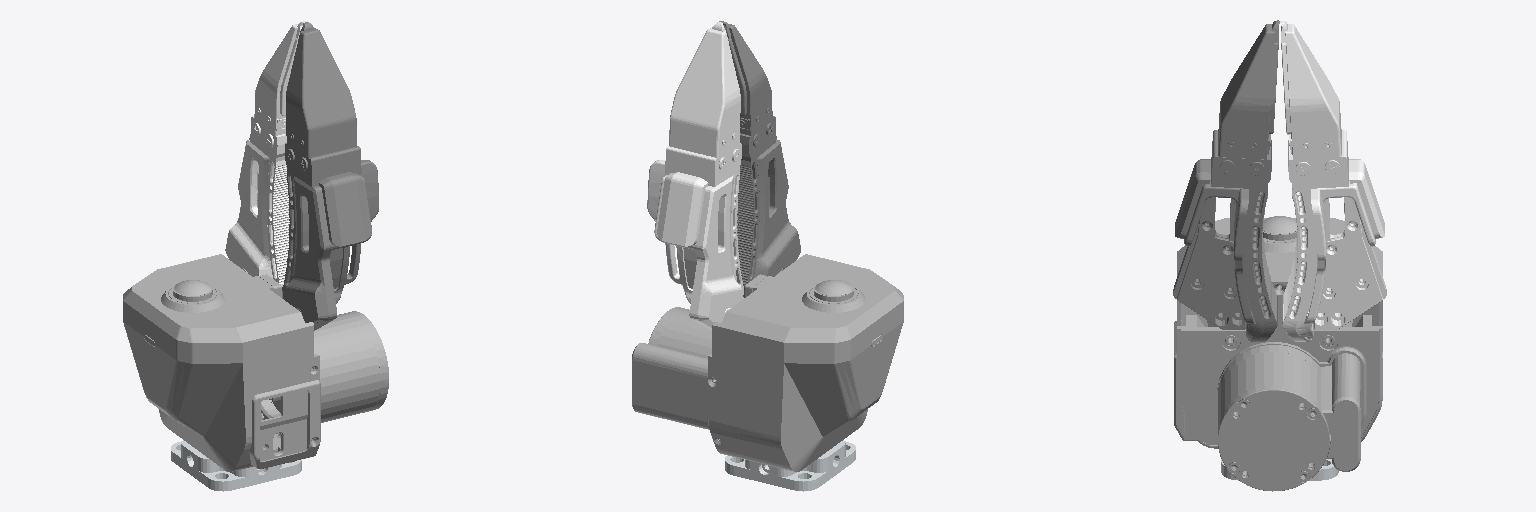
URDF robot description (taccap_g1_slave_with_mount):
<robot name="taccap_g1_slave_with_mount">
  <!-- Generated by scripts/generate_models.py; edit Xacro/config sources instead. -->
  <material name="taccap_base_mat">
    <color rgba="0.75294 0.75294 0.75294 1" />
  </material>
  <material name="taccap_left_mat">
    <color rgba="1 1 1 1" />
  </material>
  <material name="taccap_right_mat">
    <color rgba="0.60392 0.60392 0.60392 1" />
  </material>
  <material name="taccap_mount_mat">
    <color rgba="0.89804 0.91765 0.92941 1" />
  </material>
  <link name="taccap_mount_link">
    <visual name="asm_visual">
      <origin rpy="0 -1.5707963267948966 0" xyz="0 0 0" />
      <geometry>
        <mesh filename="../meshes/Asm_link.STL" />
      </geometry>
      <material name="taccap_mount_mat" />
    </visual>
    <collision name="asm_collision">
      <origin rpy="0 -1.5707963267948966 0" xyz="0 0 0" />
      <geometry>
        <mesh filename="../meshes/Asm_link.STL" />
      </geometry>
    </collision>
  </link>
  <joint name="taccap_mount_joint" type="fixed">
    <parent link="taccap_mount_link" />
    <child link="taccap_base_link" />
    <origin rpy="0 0 0" xyz="0 0 0.012" />
  </joint>
  <link name="taccap_base_link">
    <inertial>
      <origin rpy="0 0 0" xyz="0.010155 -0.0007499 0.0361" />
      <mass value="0.415" />
      <inertia ixx="0.000573" ixy="0" ixz="0" iyy="0.000748" iyz="0" izz="0.000680" />
    </inertial>
    <visual name="base_visual">
      <origin rpy="0 -1.5707963267948966 0" xyz="0.01975 -0.0060769 0.034023" />
      <geometry>
        <mesh filename="../meshes/base_link.STL" />
      </geometry>
      <material name="taccap_base_mat" />
    </visual>
    <collision name="base_collision">
      <origin rpy="0 -1.5707963267948966 0" xyz="0.01975 -0.0060769 0.034023" />
      <geometry>
        <mesh filename="../meshes/base_link.STL" />
      </geometry>
    </collision>
  </link>
  <link name="taccap_left_finger_link">
    <inertial>
      <origin rpy="0 0 0" xyz="0.020693 -0.00669 0.074921" />
      <mass value="0.36678" />
      <inertia ixx="0.00015235" ixy="2.9254e-07" ixz="-2.4362e-06" iyy="0.00015466" iyz="-6.6715e-06" izz="3.3606e-05" />
    </inertial>
    <visual name="left_finger_visual">
      <origin rpy="0 -1.5707963267948966 0" xyz="0 0 0" />
      <geometry>
        <mesh filename="../meshes/grip_left.STL" />
      </geometry>
      <material name="taccap_left_mat" />
    </visual>
    <collision name="left_finger_collision">
      <origin rpy="0 -1.5707963267948966 0" xyz="0 0 0" />
      <geometry>
        <mesh filename="../meshes/grip_left.STL" />
      </geometry>
    </collision>
  </link>
  <joint name="taccap_left_finger_joint" type="revolute">
    <parent link="taccap_base_link" />
    <child link="taccap_left_finger_link" />
    <origin rpy="0 0 0" xyz="0.0120336718 0.0199500106 0.0484999712" />
    <axis xyz="1 0 0" />
    <limit effort="1.1" lower="-0.5047492196767601" upper="0" velocity="1" />
    <dynamics damping="0.08" friction="0.01" />
    <mimic joint="taccap_right_finger_joint" multiplier="-1" offset="0" />
  </joint>
  <link name="taccap_right_finger_link">
    <inertial>
      <origin rpy="0 0 0" xyz="0.020629 0.0066814 0.07491" />
      <mass value="0.36678" />
      <inertia ixx="0.00015238" ixy="-2.9549e-07" ixz="-2.4418e-06" iyy="0.0001547" iyz="6.6629e-06" izz="3.3592e-05" />
    </inertial>
    <visual name="right_finger_visual">
      <origin rpy="0 -1.5707963267948966 0" xyz="0 0 0" />
      <geometry>
        <mesh filename="../meshes/grip_right.STL" />
      </geometry>
      <material name="taccap_right_mat" />
    </visual>
    <collision name="right_finger_collision">
      <origin rpy="0 -1.5707963267948966 0" xyz="0 0 0" />
      <geometry>
        <mesh filename="../meshes/grip_right.STL" />
      </geometry>
    </collision>
  </link>
  <joint name="taccap_right_finger_joint" type="revolute">
    <parent link="taccap_base_link" />
    <child link="taccap_right_finger_link" />
    <origin rpy="0 0 0" xyz="0.0120336718 -0.0199499894 0.0484999712" />
    <axis xyz="1 0 0" />
    <limit effort="1.1" lower="0" upper="0.5047492196767601" velocity="1" />
    <dynamics damping="0.08" friction="0.01" />
  </joint>
  <link name="taccap_eef_link" />
  <joint name="taccap_eef_joint" type="fixed">
    <parent link="taccap_base_link" />
    <child link="taccap_eef_link" />
    <origin rpy="0 0 0" xyz="0.036575 0 0.2009217" />
  </joint>
  <link name="taccap_camera_link" />
  <joint name="taccap_camera_joint" type="fixed">
    <parent link="taccap_base_link" />
    <child link="taccap_camera_link" />
    <origin rpy="0 0 0" xyz="-0.02275 0 0.06125" />
  </joint>
  <link name="taccap_camera_optical_link" />
  <joint name="taccap_camera_optical_joint" type="fixed">
    <parent link="taccap_camera_link" />
    <child link="taccap_camera_optical_link" />
    <origin rpy="0 0 -1.5707963267948966" xyz="0 0 0" />
  </joint>
</robot>

--- Render facts (derived) ---
The picture shows the robot from 3 angles, left to right: view 1: azimuth 30°, elevation 25°; view 2: azimuth 150°, elevation 25°; view 3: azimuth 270°, elevation 25°; orthographic projection.
Model taccap_g1_slave_with_mount with 7 links and 6 joints (2 revolute, 4 fixed), rooted at taccap_mount_link, posed all joints at 0.
Visible links, largest first — view 1: taccap_base_link, taccap_right_finger_link, taccap_left_finger_link, taccap_mount_link; view 2: taccap_base_link, taccap_left_finger_link, taccap_right_finger_link, taccap_mount_link; view 3: taccap_base_link, taccap_right_finger_link, taccap_left_finger_link.
Link boxes in pixels (x1,y1,x2,y2): taccap_base_link: [123, 254, 388, 471]; taccap_right_finger_link: [269, 22, 378, 401]; taccap_left_finger_link: [225, 21, 307, 298]; taccap_mount_link: [171, 440, 301, 491]; taccap_base_link: [632, 254, 903, 471]; taccap_left_finger_link: [647, 22, 743, 329]; taccap_right_finger_link: [719, 21, 800, 297]; taccap_mount_link: [725, 440, 855, 491]; taccap_base_link: [1174, 216, 1382, 491]; taccap_right_finger_link: [1173, 20, 1279, 341]; taccap_left_finger_link: [1280, 21, 1386, 341].
Size in the robot's own frame: 0.1112 by 0.0872 by 0.2129 metres.
4 mesh visuals loaded from 4 distinct referenced files (4 binary STL).
